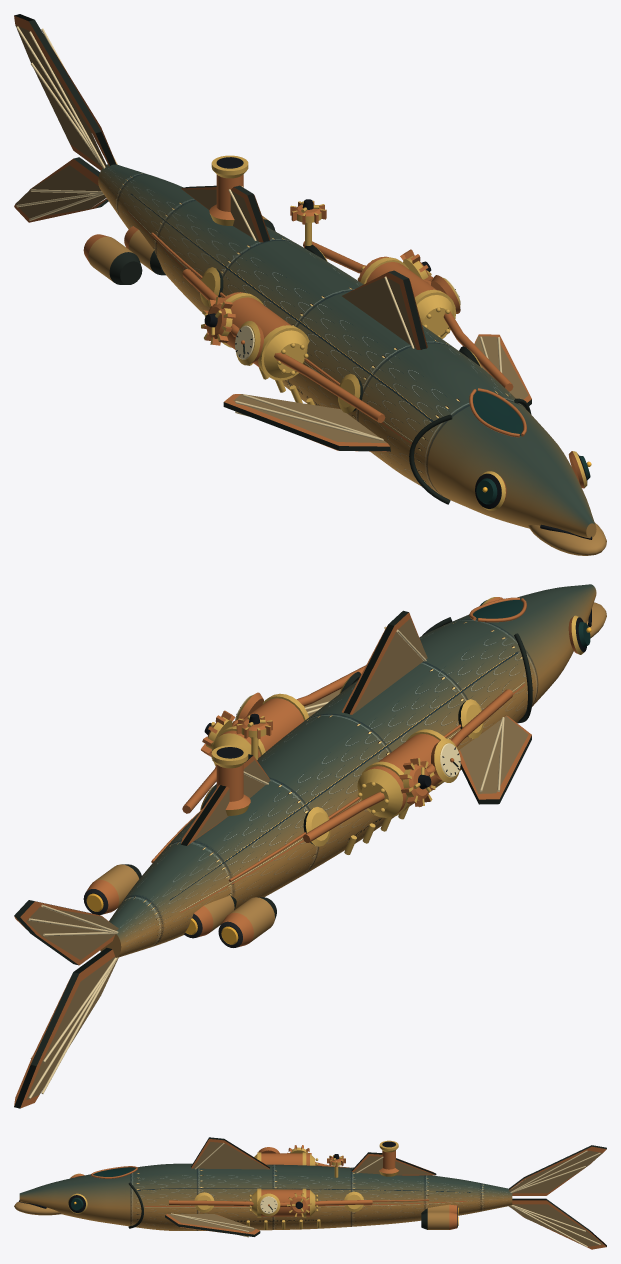
The picture shows the model from 3 angles, top to bottom: view 1: azimuth 30°, elevation 25°; view 2: azimuth 150°, elevation 25°; view 3: azimuth 270°, elevation 25°; orthographic projection. The views are drawn at different scales.
Parts seen in each view (by area): view 1: barracuda_hull; view 2: barracuda_hull; view 3: barracuda_hull.
Boxes of the visible parts, <box> form: barracuda_hull: <box>14,14,606,555</box>; barracuda_hull: <box>14,584,606,1108</box>; barracuda_hull: <box>14,1137,606,1249</box>.
Size of the model in its own units: 17.8 by 13.36 by 64.8.
1 material, 1 textured.
